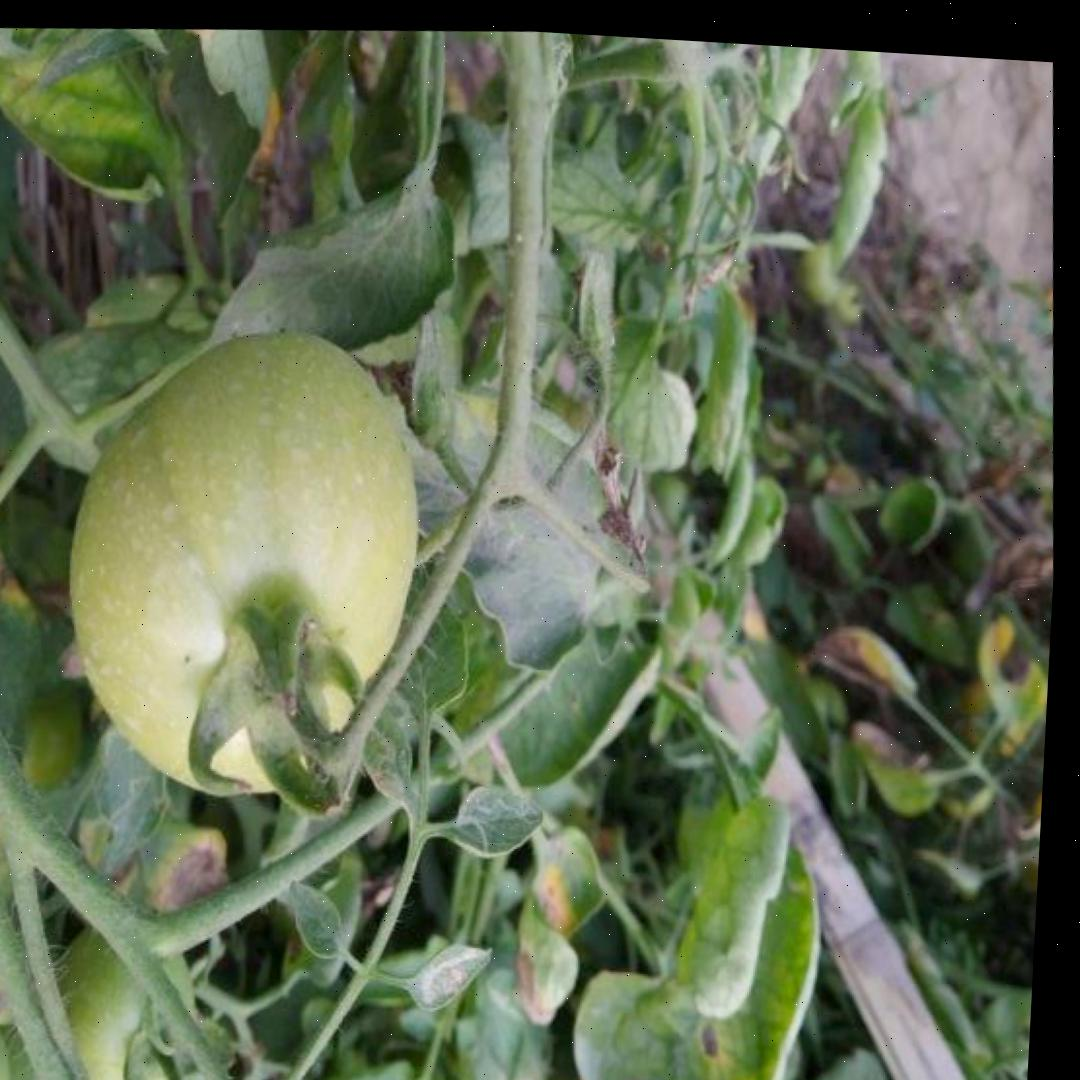mentah: (50, 310, 441, 819), (38, 908, 203, 1080)
